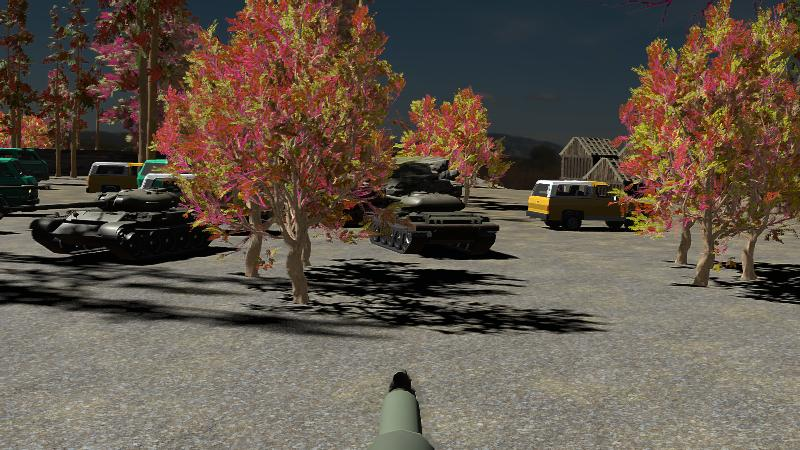Tank: (3, 185, 209, 263), (368, 189, 500, 258)
car: (527, 179, 637, 231), (0, 146, 51, 184), (86, 161, 142, 194), (0, 155, 33, 208)
